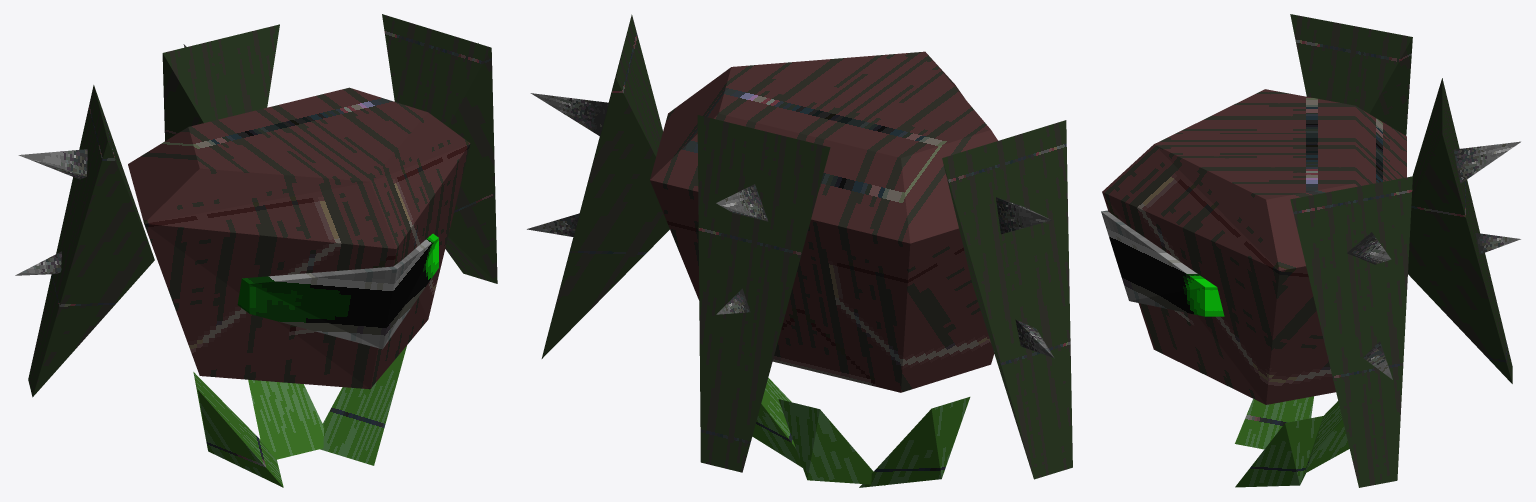
Rendered from model_065_robot_bandit.glb.
3 views of the same model, side by side, from view 1: azimuth 30°, elevation 25°; view 2: azimuth 150°, elevation 25°; view 3: azimuth 270°, elevation 25° (orthographic). The views are drawn at different scales.
Visible parts, largest first — view 1: model_065; view 2: model_065; view 3: model_065.
Part boxes in pixels (box(x1,y1,x2,y2)): model_065: box(15, 14, 497, 487); model_065: box(527, 14, 1072, 487); model_065: box(1101, 14, 1520, 487).
Bounding box in the file's own units: 8 × 5.93 × 6.31.
5 materials, 5 textured.
